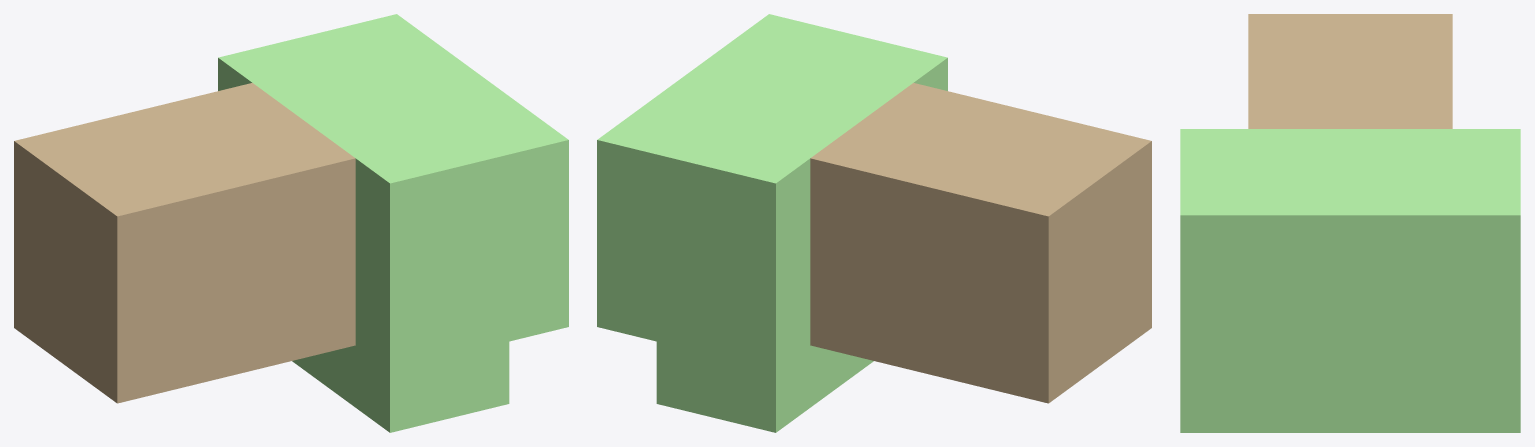
File: zunko_ArmR.obj
The picture shows the model from 3 angles, left to right: view 1: azimuth 30°, elevation 25°; view 2: azimuth 150°, elevation 25°; view 3: azimuth 270°, elevation 25°; orthographic projection.
Visible parts, largest first — view 1: zunko_ArmR; view 2: zunko_ArmR; view 3: zunko_ArmR.
Boxes of the visible parts, bbox=[...] form: zunko_ArmR: bbox=[14, 14, 568, 432]; zunko_ArmR: bbox=[597, 14, 1151, 432]; zunko_ArmR: bbox=[1180, 14, 1520, 432].
Size of the model in its own units: 7 by 4 by 5.
1 material, 1 textured.
